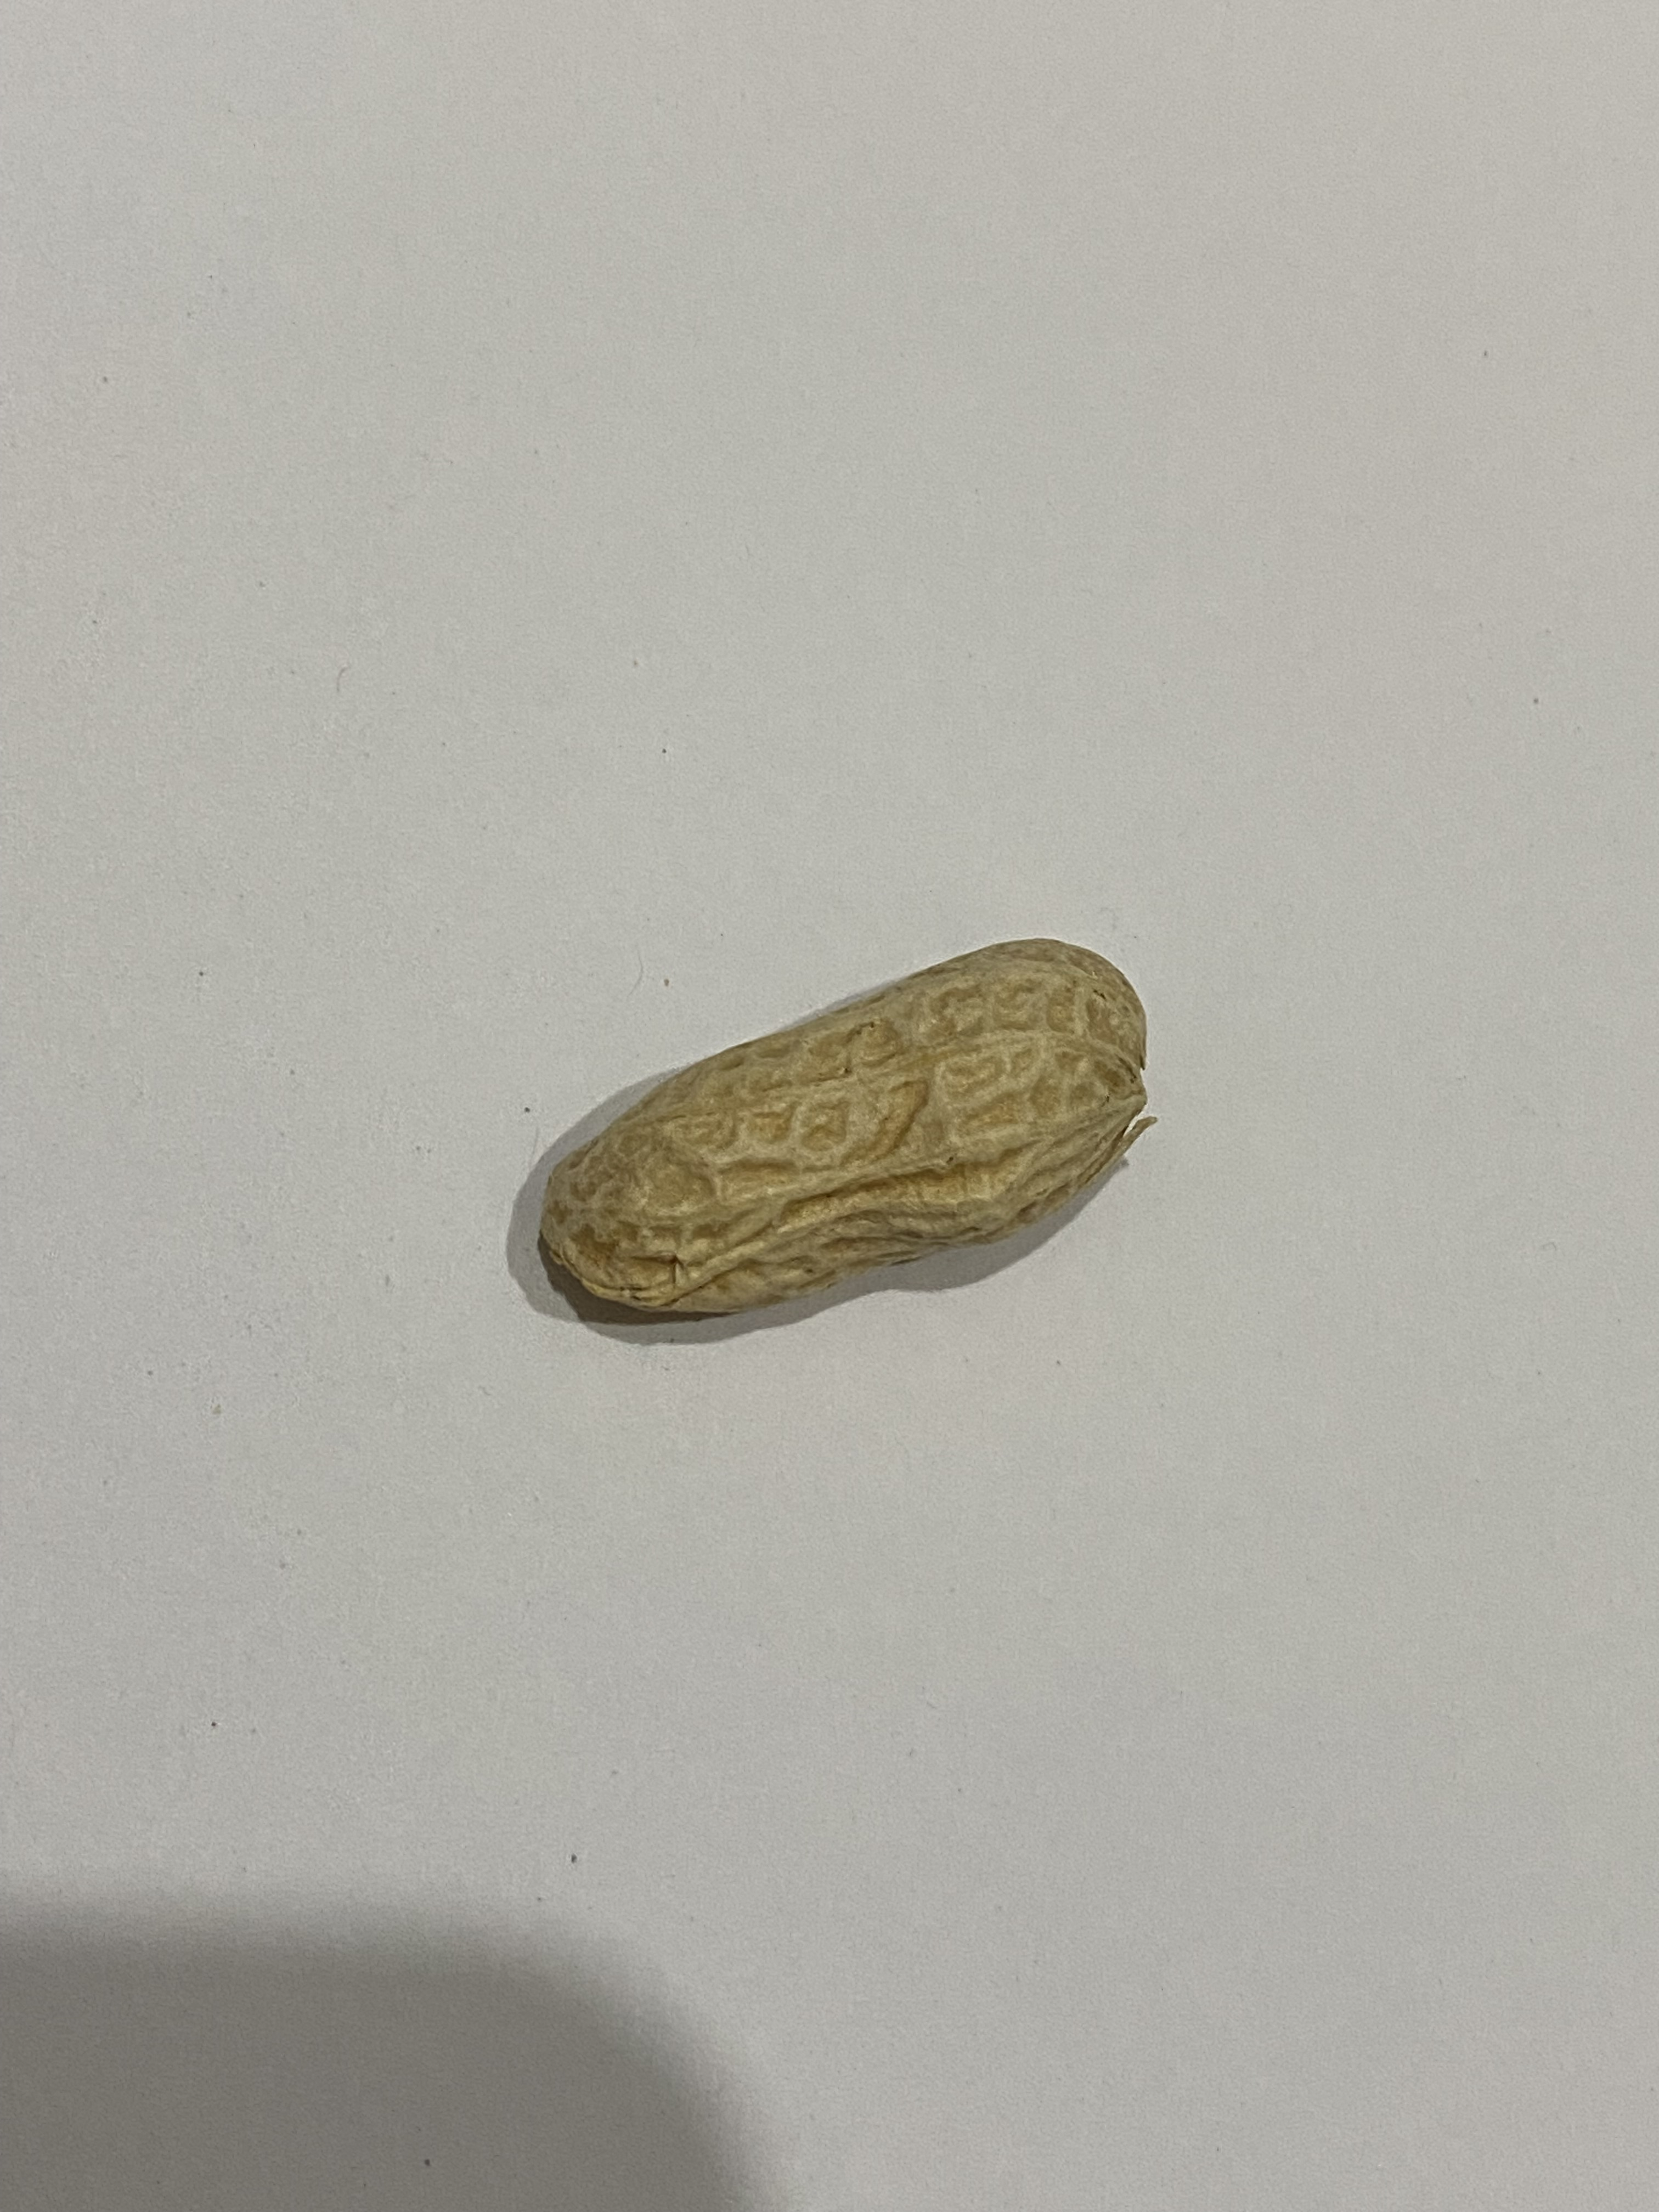kacang2: (528, 918, 1171, 1332)
